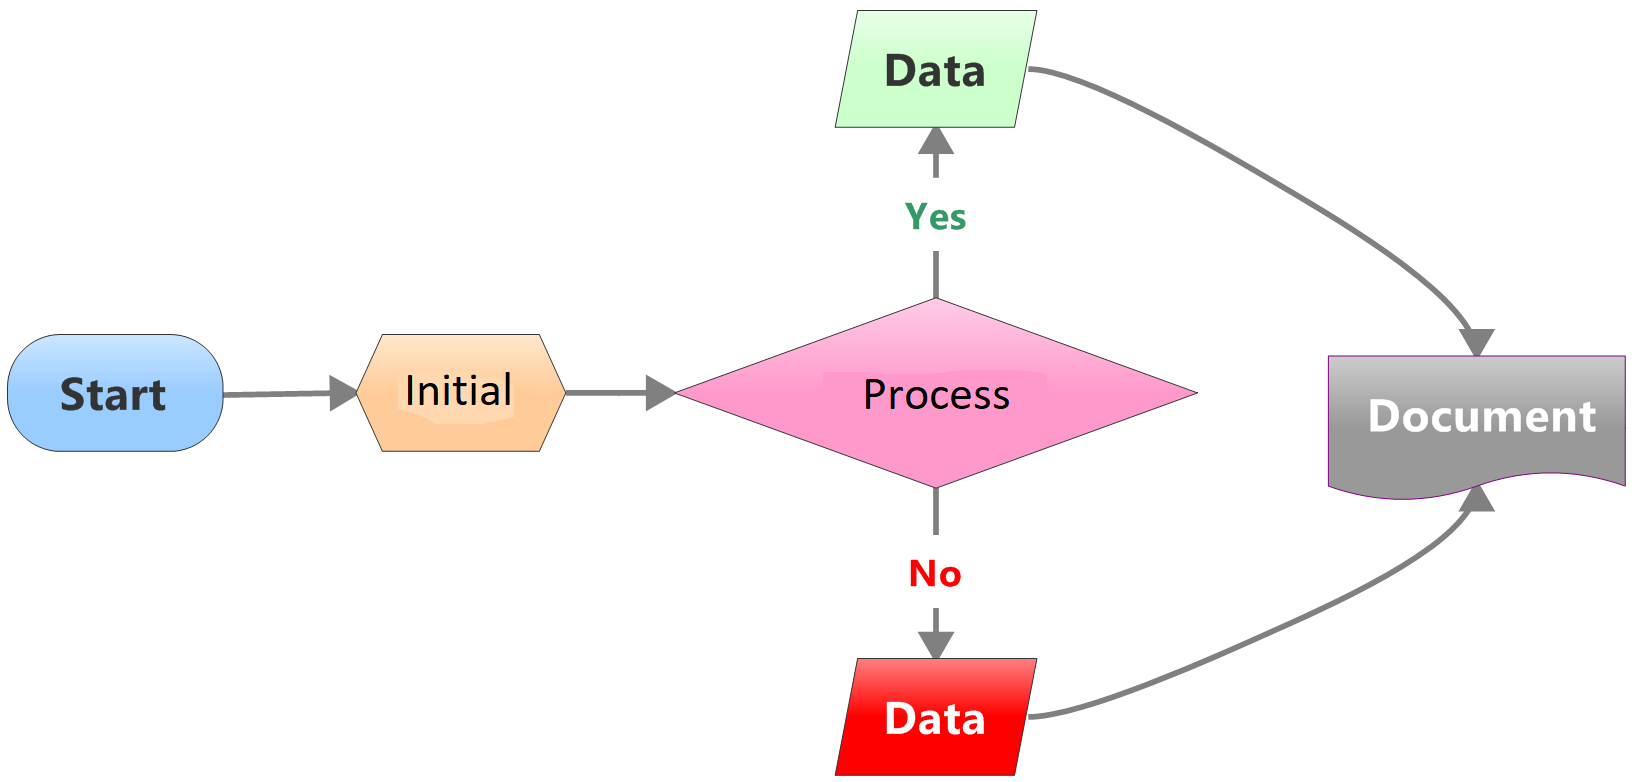arrow: (1022, 61, 1502, 361), (1025, 482, 1499, 730), (915, 484, 958, 664), (915, 118, 951, 304), (217, 373, 364, 414), (558, 374, 684, 412)
data: (826, 4, 1043, 135), (831, 656, 1046, 781)
decision: (672, 297, 1205, 492)
process: (1318, 350, 1636, 505), (353, 330, 571, 458)
terminator: (3, 330, 231, 456)
text: (1362, 392, 1599, 439), (859, 376, 1012, 414), (58, 371, 172, 418), (399, 369, 513, 410), (882, 50, 992, 92), (903, 199, 971, 238), (907, 555, 964, 596)
